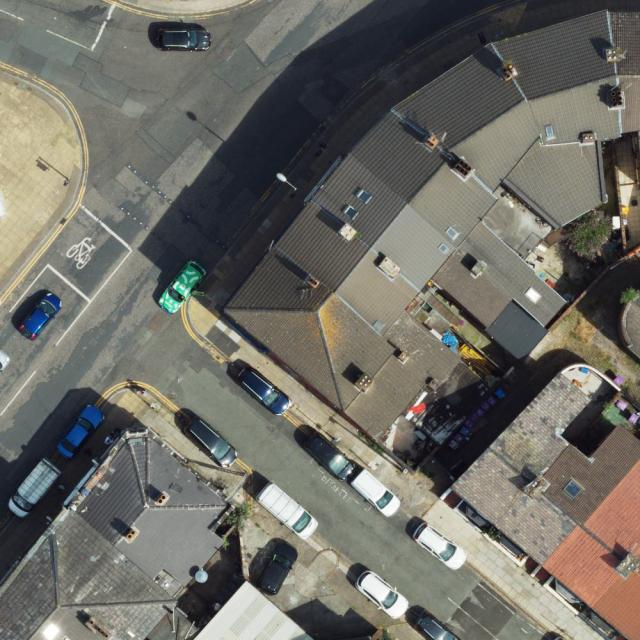roof: (226, 9, 640, 446), (448, 367, 640, 640), (0, 429, 234, 640)
skylight: (560, 474, 588, 503), (521, 281, 545, 307), (353, 185, 377, 207), (340, 203, 361, 222), (444, 225, 462, 242), (542, 121, 557, 140), (435, 241, 451, 256)
